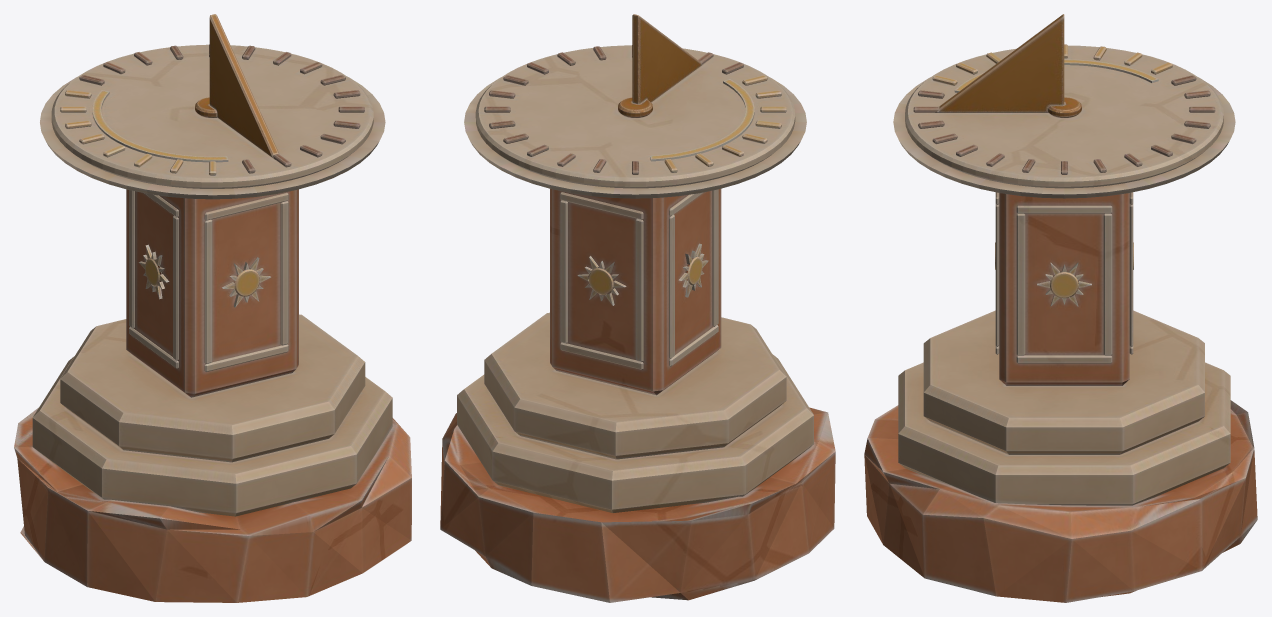
File: sundial.fbx
3 views of the same model, side by side, from view 1: azimuth 30°, elevation 25°; view 2: azimuth 150°, elevation 25°; view 3: azimuth 270°, elevation 25° (orthographic).
Visible parts, largest first — view 1: Sundial; view 2: Sundial; view 3: Sundial.
Boxes of the visible parts, left/top/right/bottom form: Sundial: left=14, top=14, right=411, bottom=602; Sundial: left=440, top=14, right=835, bottom=602; Sundial: left=864, top=14, right=1257, bottom=602.
Bounding box in the file's own units: 275 × 388 × 271.
